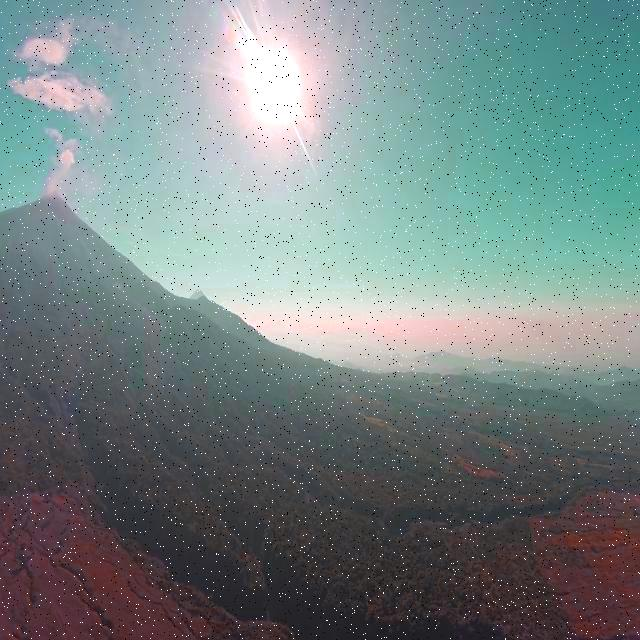Plume: (8, 68, 112, 115), (41, 119, 84, 204), (13, 19, 80, 71)
Summit: (36, 187, 72, 218)
